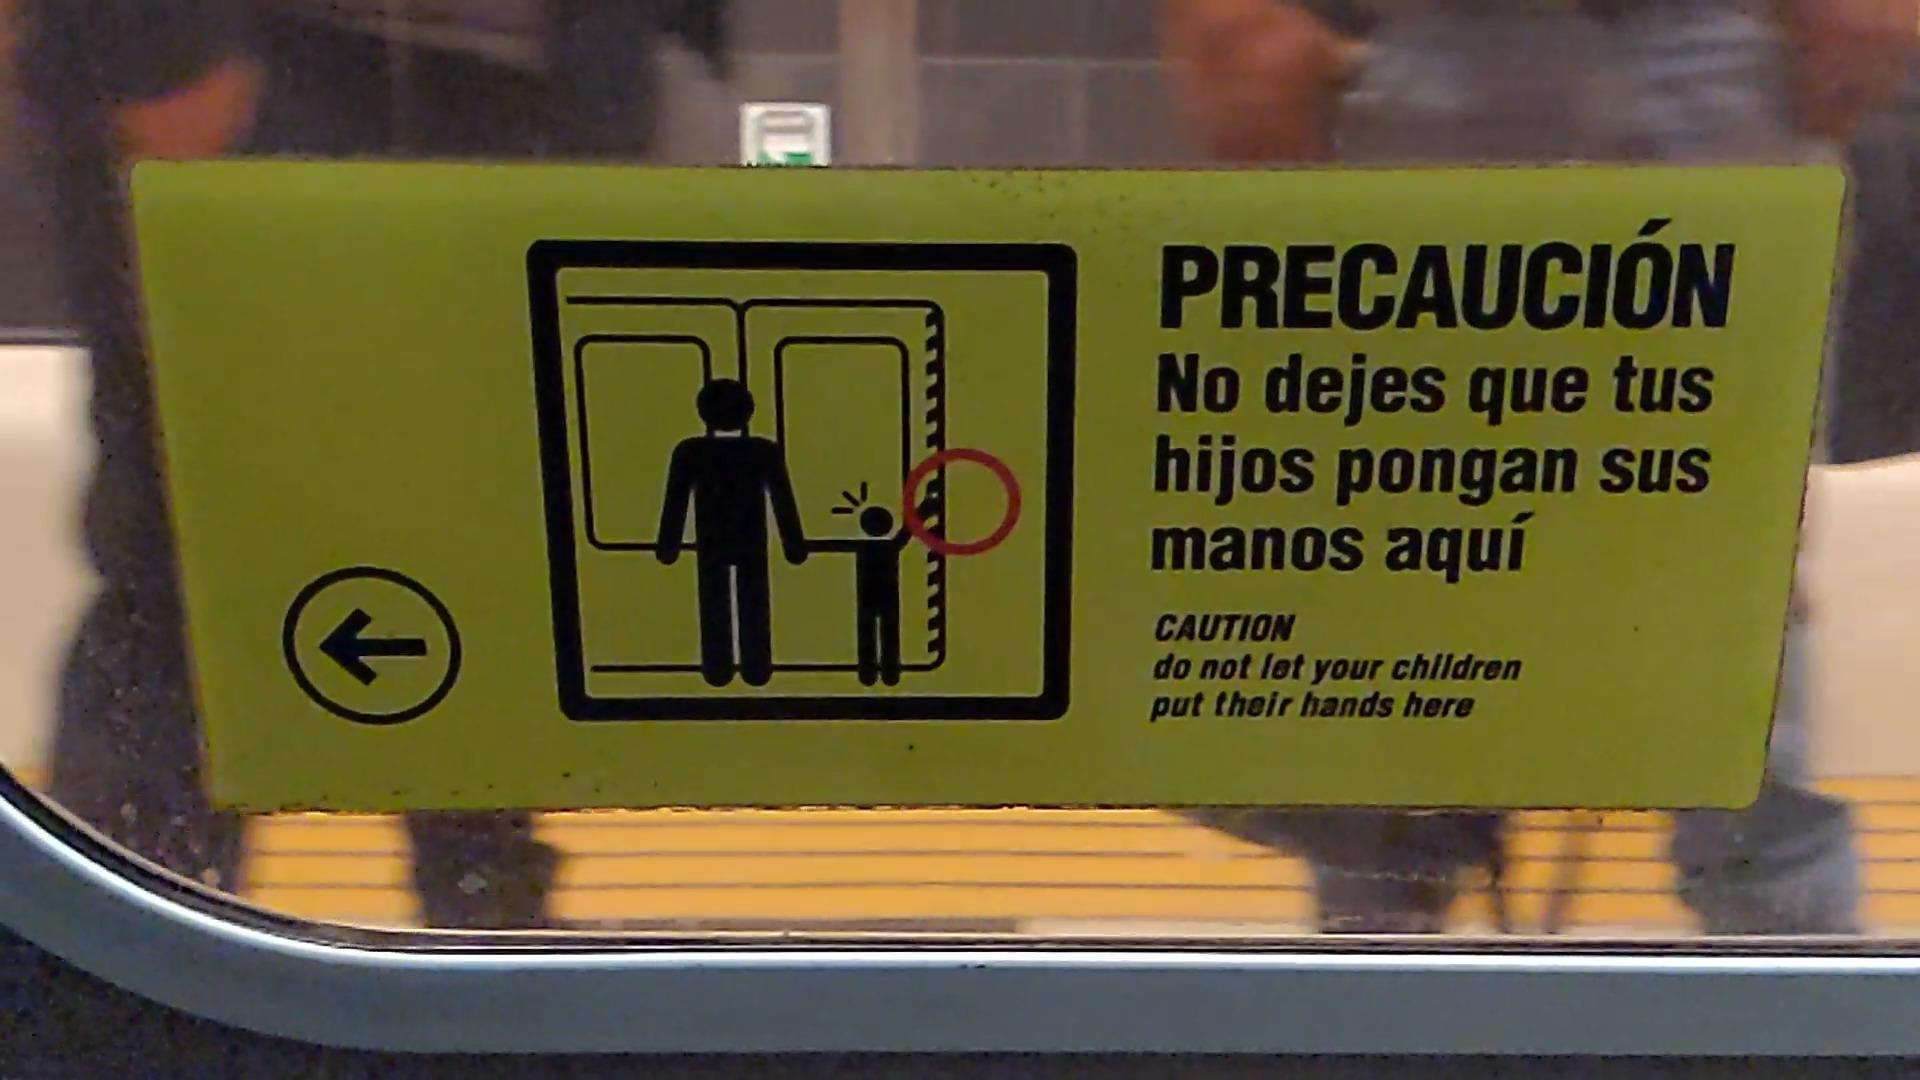left arrow: (314, 605, 436, 686)
